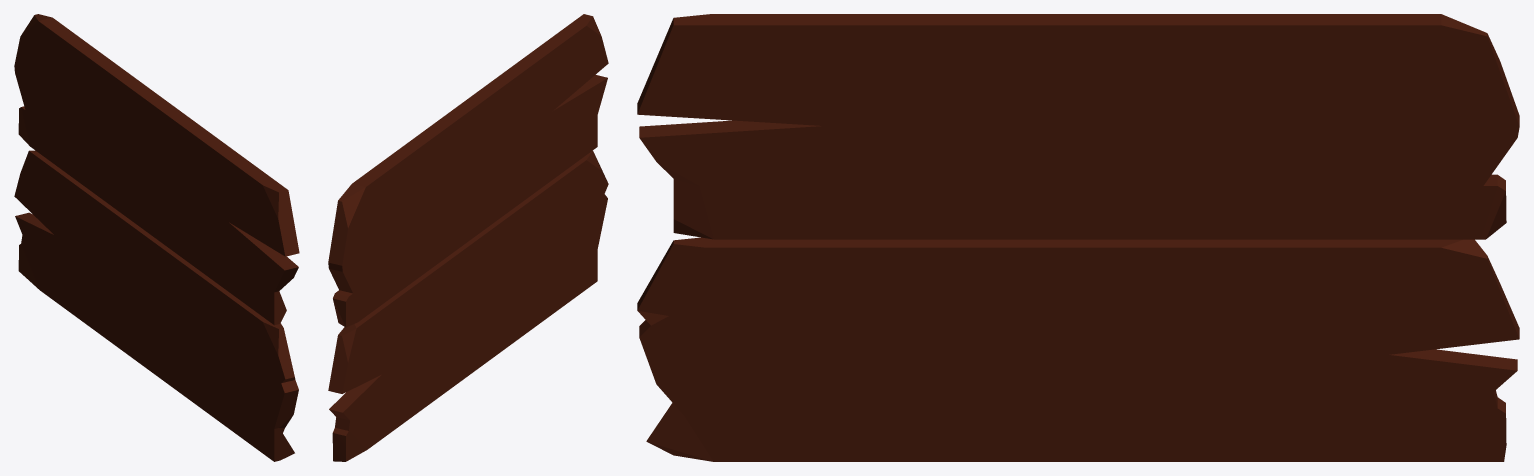
Rendered from Block_wood.fbx.
3 views of the same model, side by side, from view 1: azimuth 30°, elevation 25°; view 2: azimuth 150°, elevation 25°; view 3: azimuth 270°, elevation 25° (orthographic). The views are drawn at different scales.
Parts seen in each view (by area): view 1: Cube.001; view 2: Cube.001; view 3: Cube.001.
Boxes of the visible parts, bbox=[...] form: Cube.001: bbox=[14, 14, 299, 461]; Cube.001: bbox=[328, 14, 608, 461]; Cube.001: bbox=[637, 14, 1519, 461].
Size of the model in its own units: 22.6 by 408 by 746.
